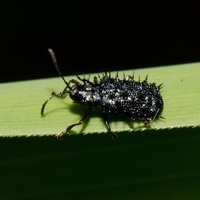insect: (41, 48, 162, 137)
